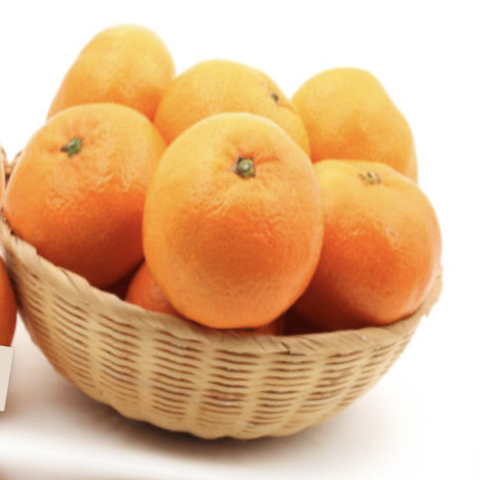orange: (122, 92, 353, 343), (259, 135, 480, 346), (0, 74, 183, 317)
